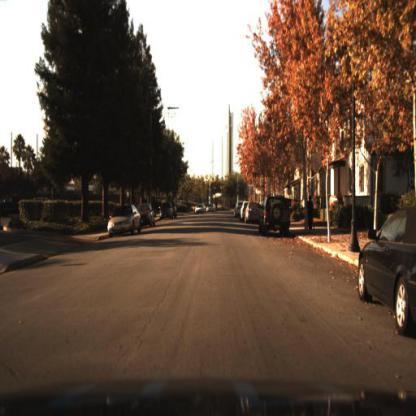car: (358, 205, 416, 338), (104, 200, 144, 242), (260, 192, 295, 238), (135, 201, 157, 230), (245, 198, 261, 227), (158, 200, 175, 221), (144, 203, 156, 231), (159, 198, 173, 222), (192, 197, 206, 219), (207, 199, 220, 218)
pedestrian: (303, 194, 318, 238)
